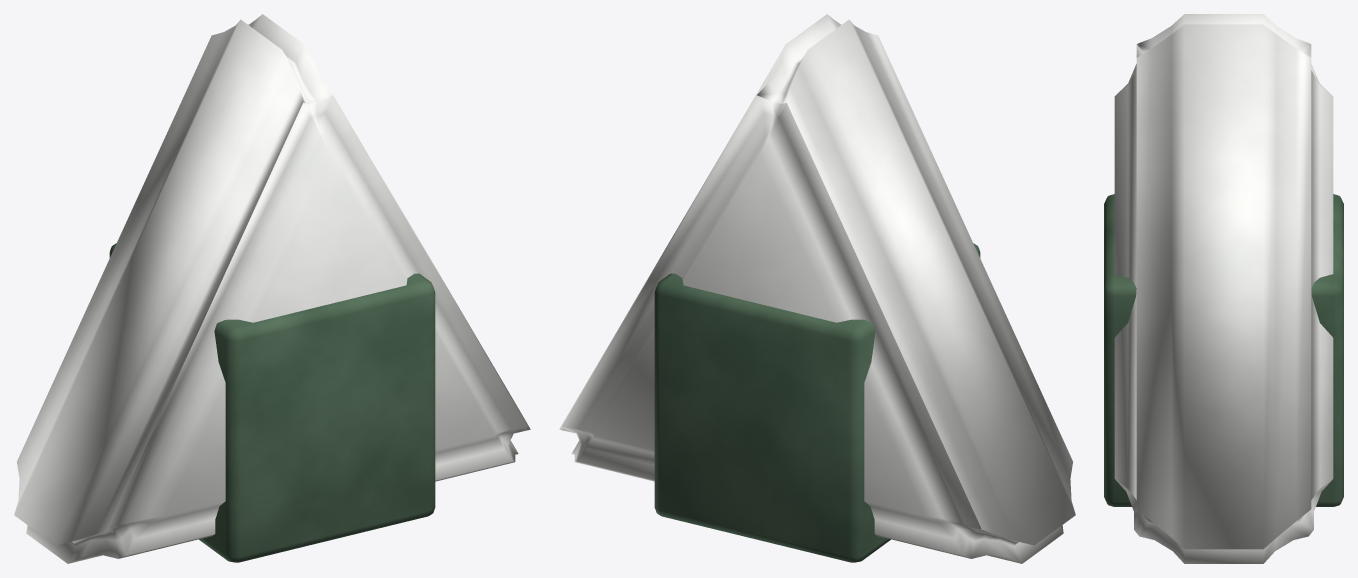
File: onigiri.fbx
The picture shows the model from 3 angles, left to right: view 1: azimuth 30°, elevation 25°; view 2: azimuth 150°, elevation 25°; view 3: azimuth 270°, elevation 25°; orthographic projection. The views are drawn at different scales.
Visible parts, largest first — view 1: onigiri; view 2: onigiri; view 3: onigiri.
Part boxes in pixels (x1,y1,x2,y2): onigiri: (14,14,530,563); onigiri: (559,14,1075,563); onigiri: (1104,14,1343,563).
Bounding box in the file's own units: 20.07 × 18.79 × 9.2.
1 material, 1 textured.
